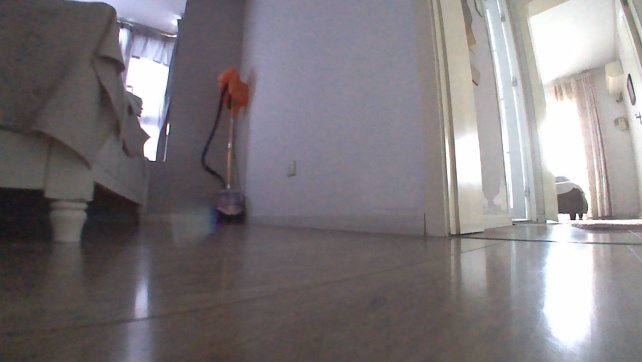bed1: (0, 0, 153, 244), (555, 173, 592, 221)
